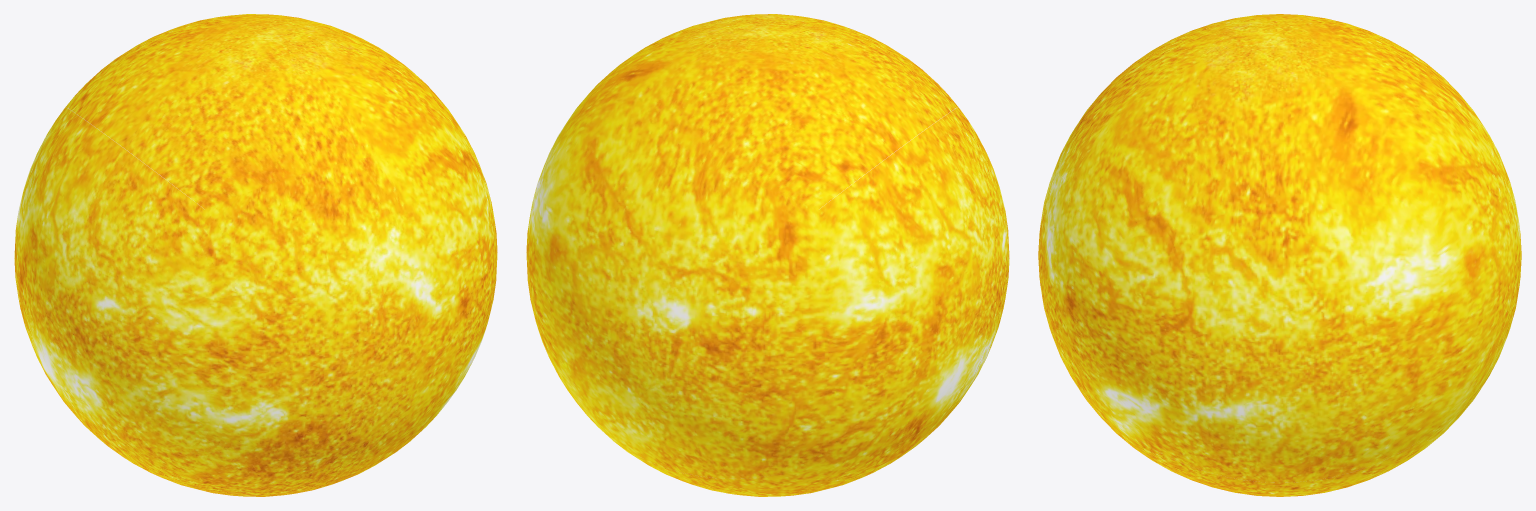
File: sun.glb
3 views of the same model, side by side, from view 1: azimuth 30°, elevation 25°; view 2: azimuth 150°, elevation 25°; view 3: azimuth 270°, elevation 25° (orthographic).
Parts seen in each view (by area): view 1: Cube.001; view 2: Cube.001; view 3: Cube.001.
Boxes of the visible parts, box(x1,y1,x2,y2) form: Cube.001: box(14, 14, 497, 496); Cube.001: box(526, 14, 1009, 496); Cube.001: box(1038, 14, 1521, 496).
Bounding box in the file's own units: 1000 × 1000 × 1000.
1 material, 1 textured.
